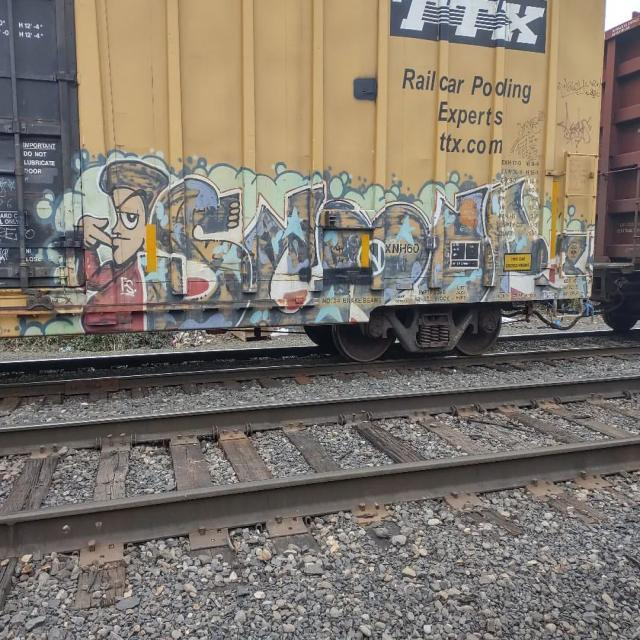nonspitting: (20, 153, 598, 337)
